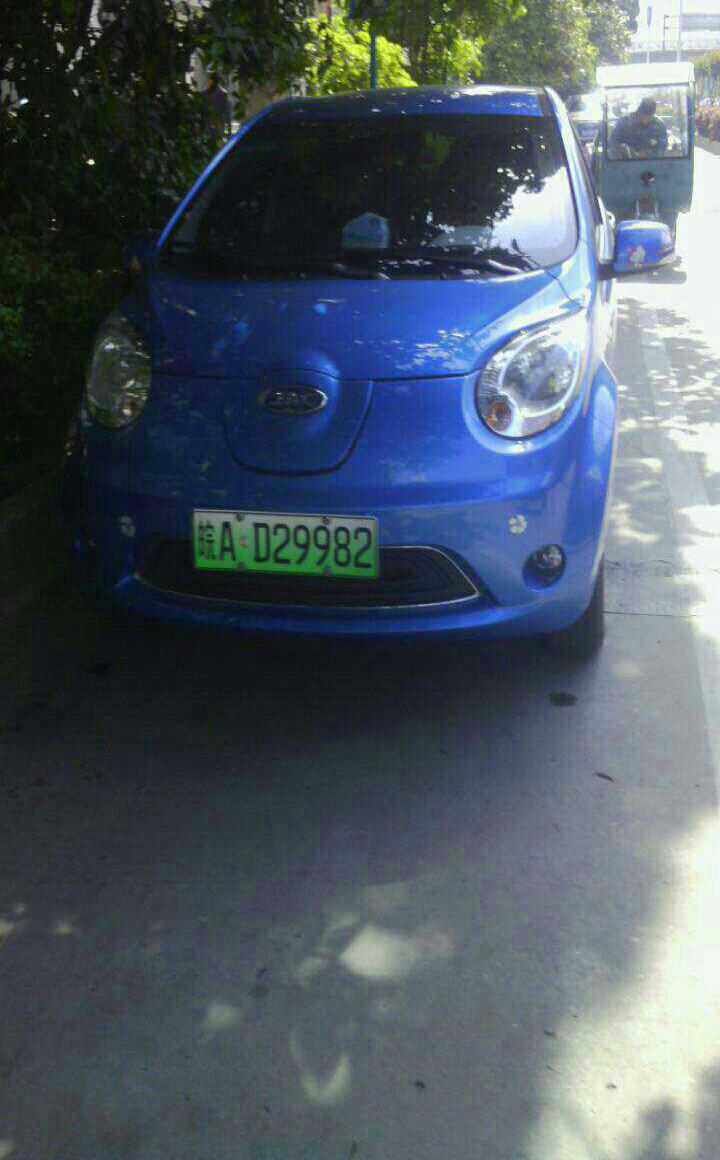car_green: (188, 508, 381, 580)
